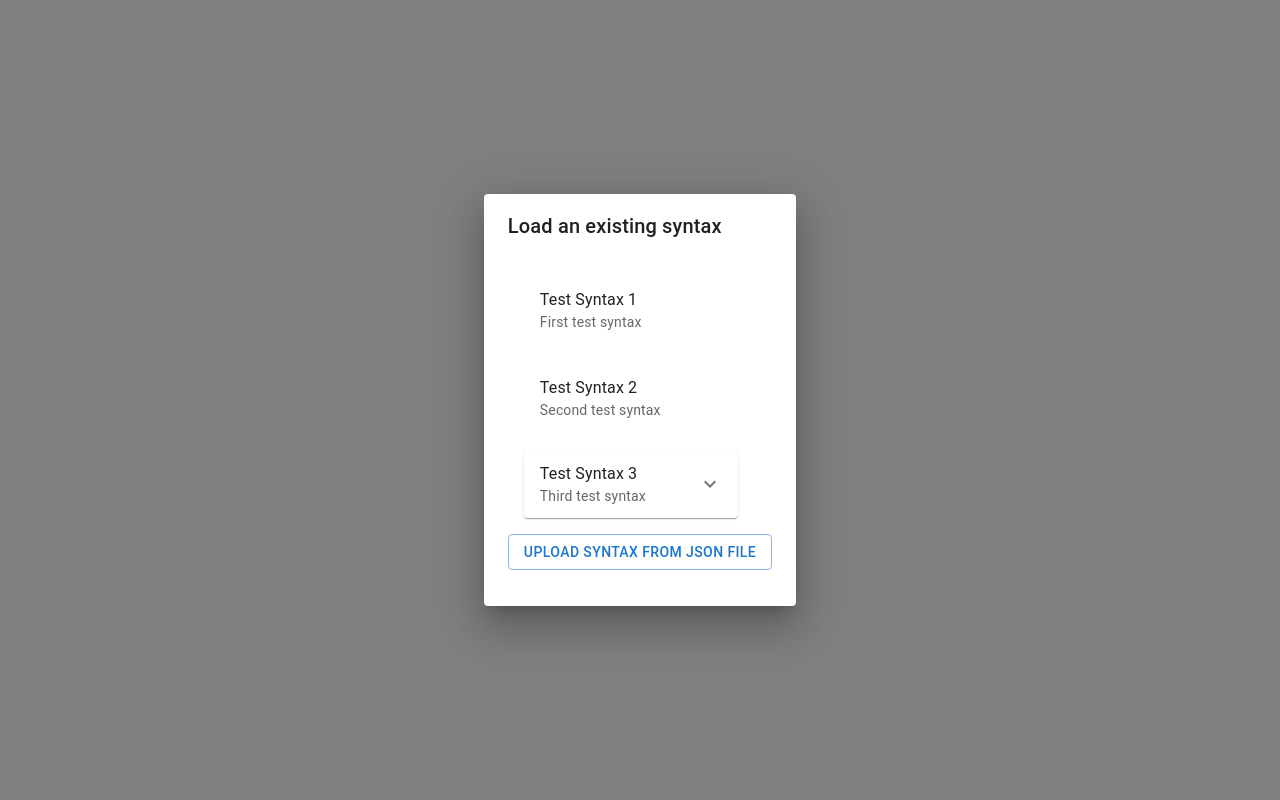
Test: <ExistingSyntaxDialog /> › displays error message when syntax.json request fails
The image size is (1280, 800).
Click the text "Test Syntax 1" at [589, 300], box [540,290,637,309]
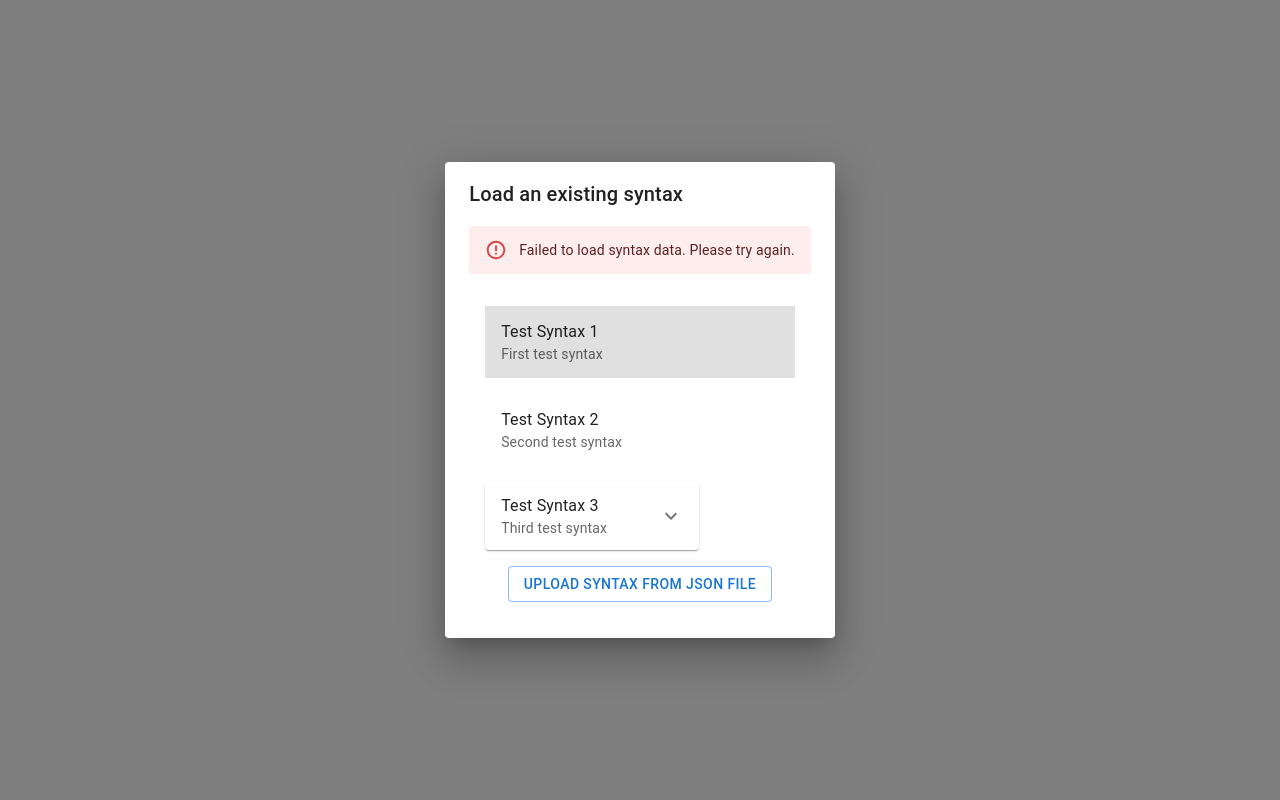
Expected: the text "Failed to load syntax data. Please try again." is shown, [519,242,795,258]
